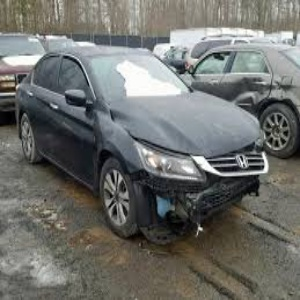bumper: (152, 181, 223, 249)
